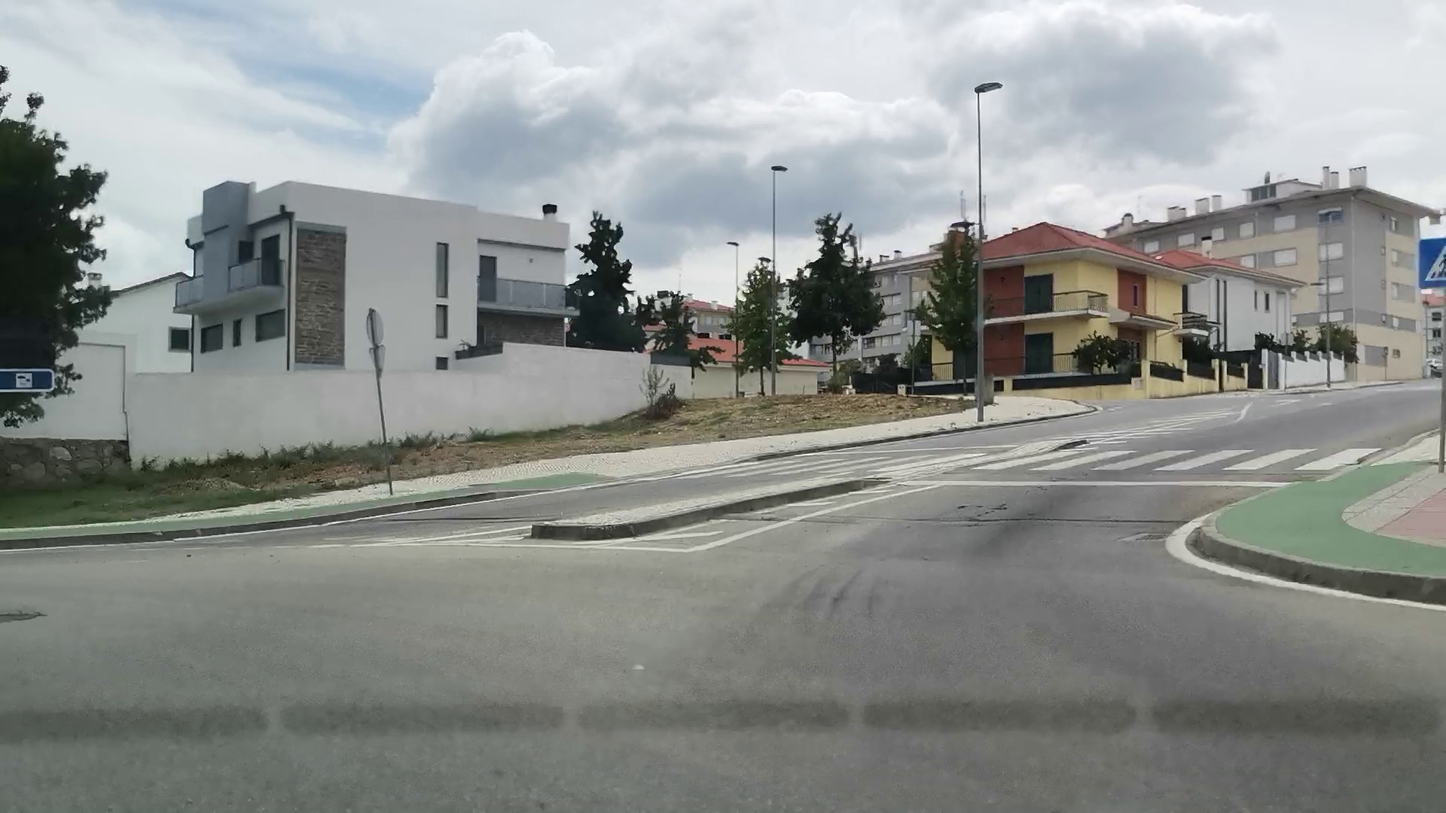Stairs: (975, 443, 1383, 477), (658, 448, 936, 479)
